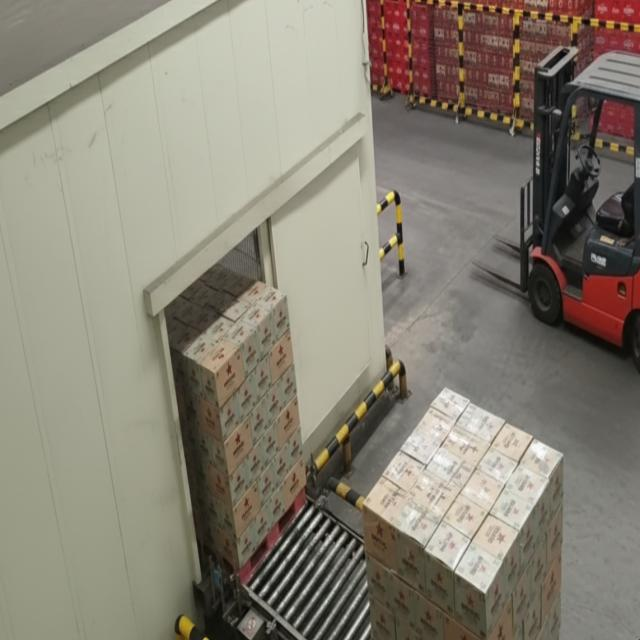pallet: (357, 382, 574, 640), (159, 259, 315, 586)
